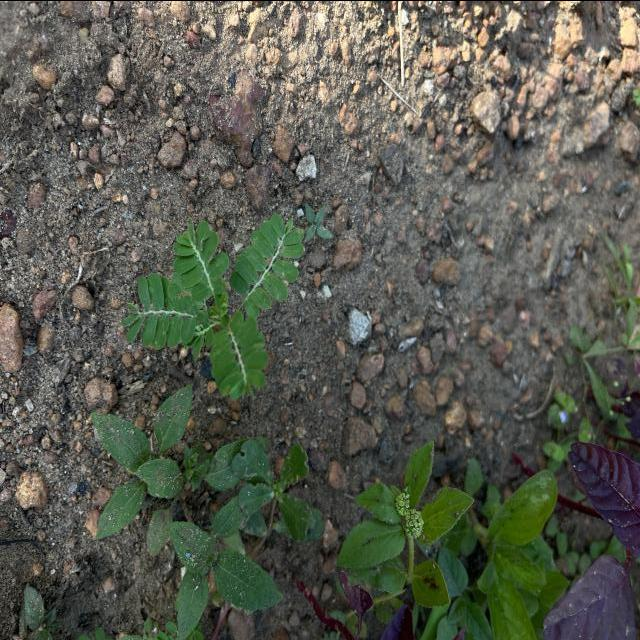Phyllanthus niruri: (228, 208, 306, 318), (120, 272, 202, 354), (207, 310, 270, 404), (170, 209, 232, 299)
